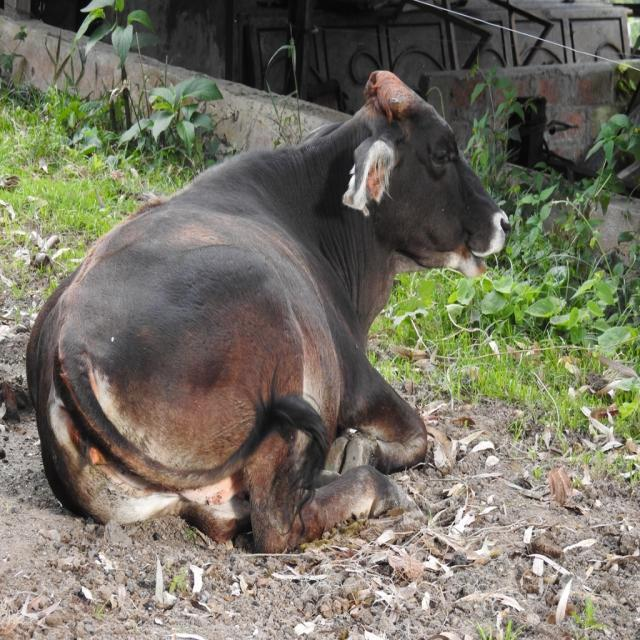cow: (28, 71, 506, 551)
